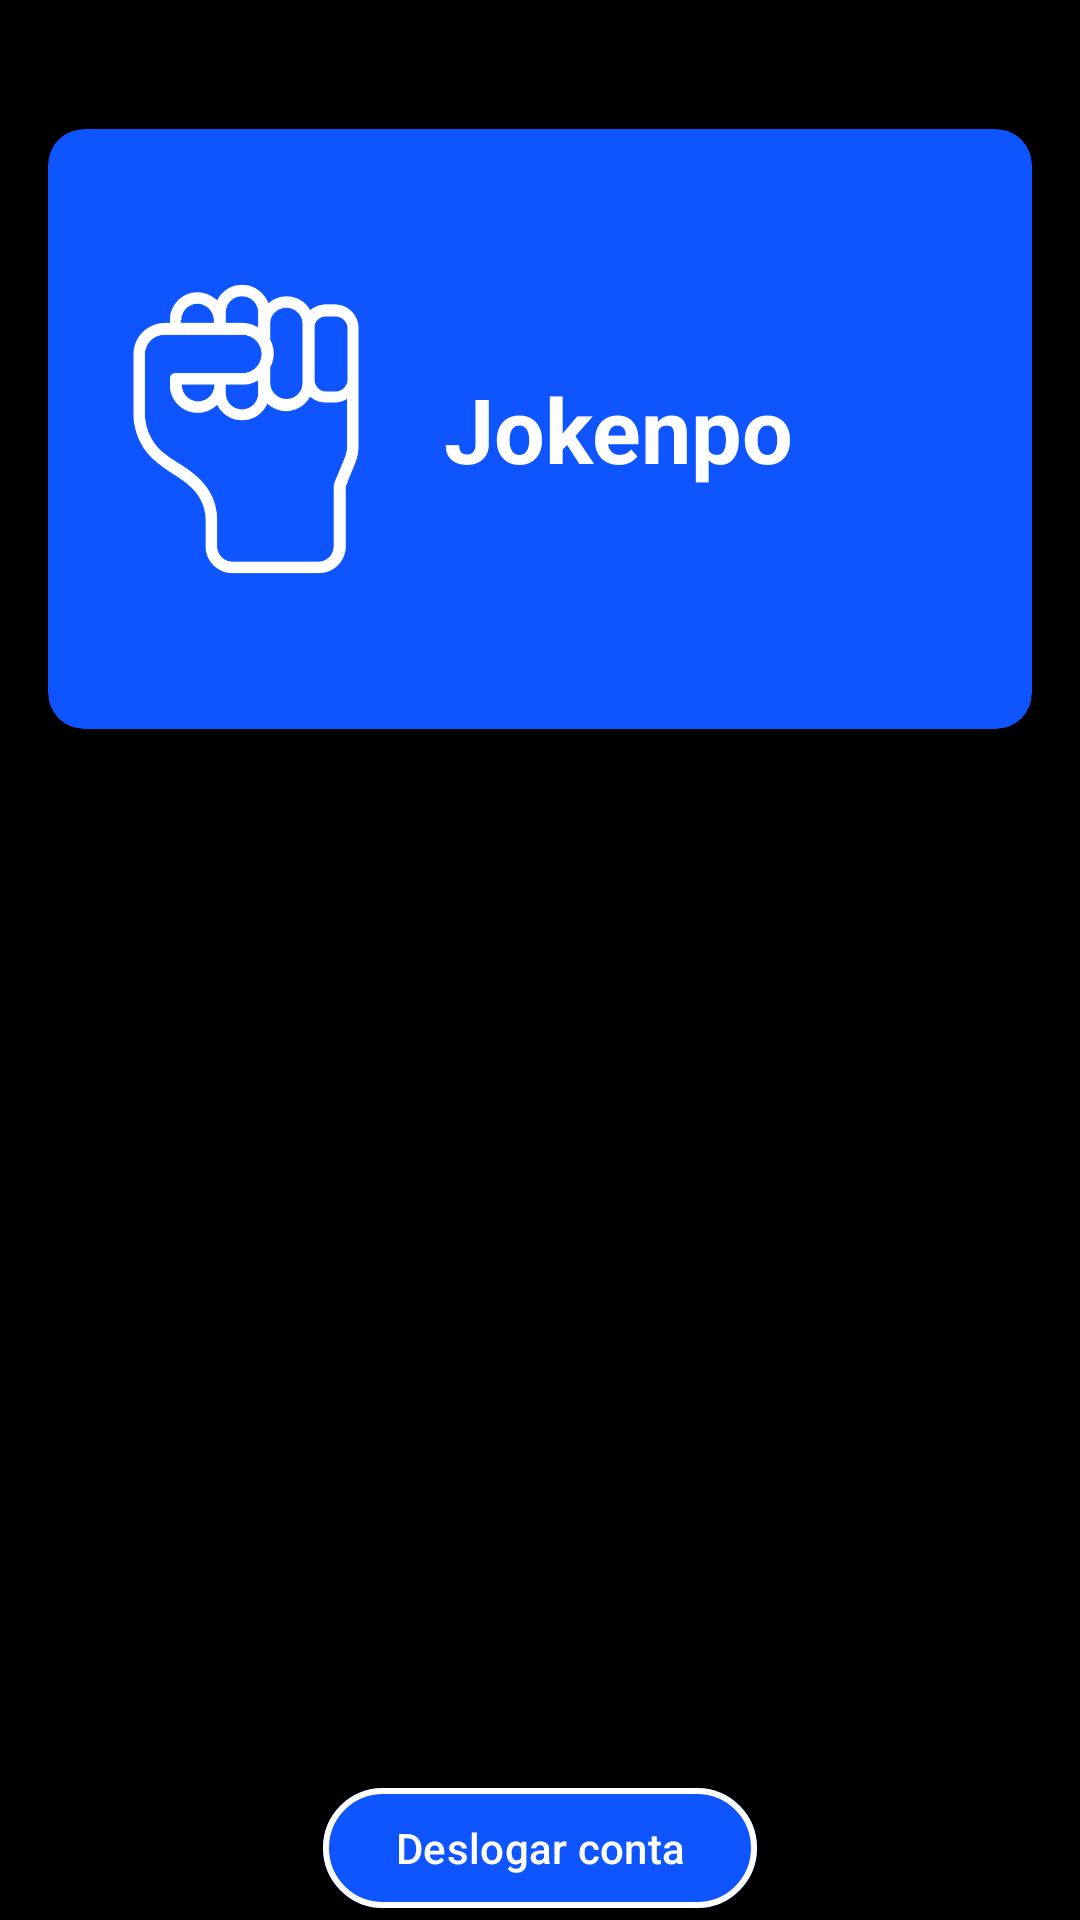

Icon click points for this 1080 × 1920 phone screenshot, format (x,y):
pedra: (246,429)
